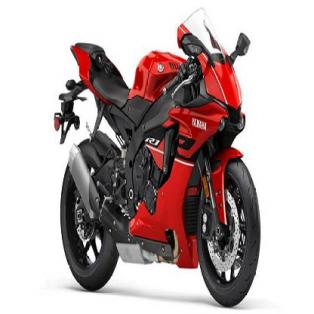Motocicleta: (49, 3, 263, 307)
